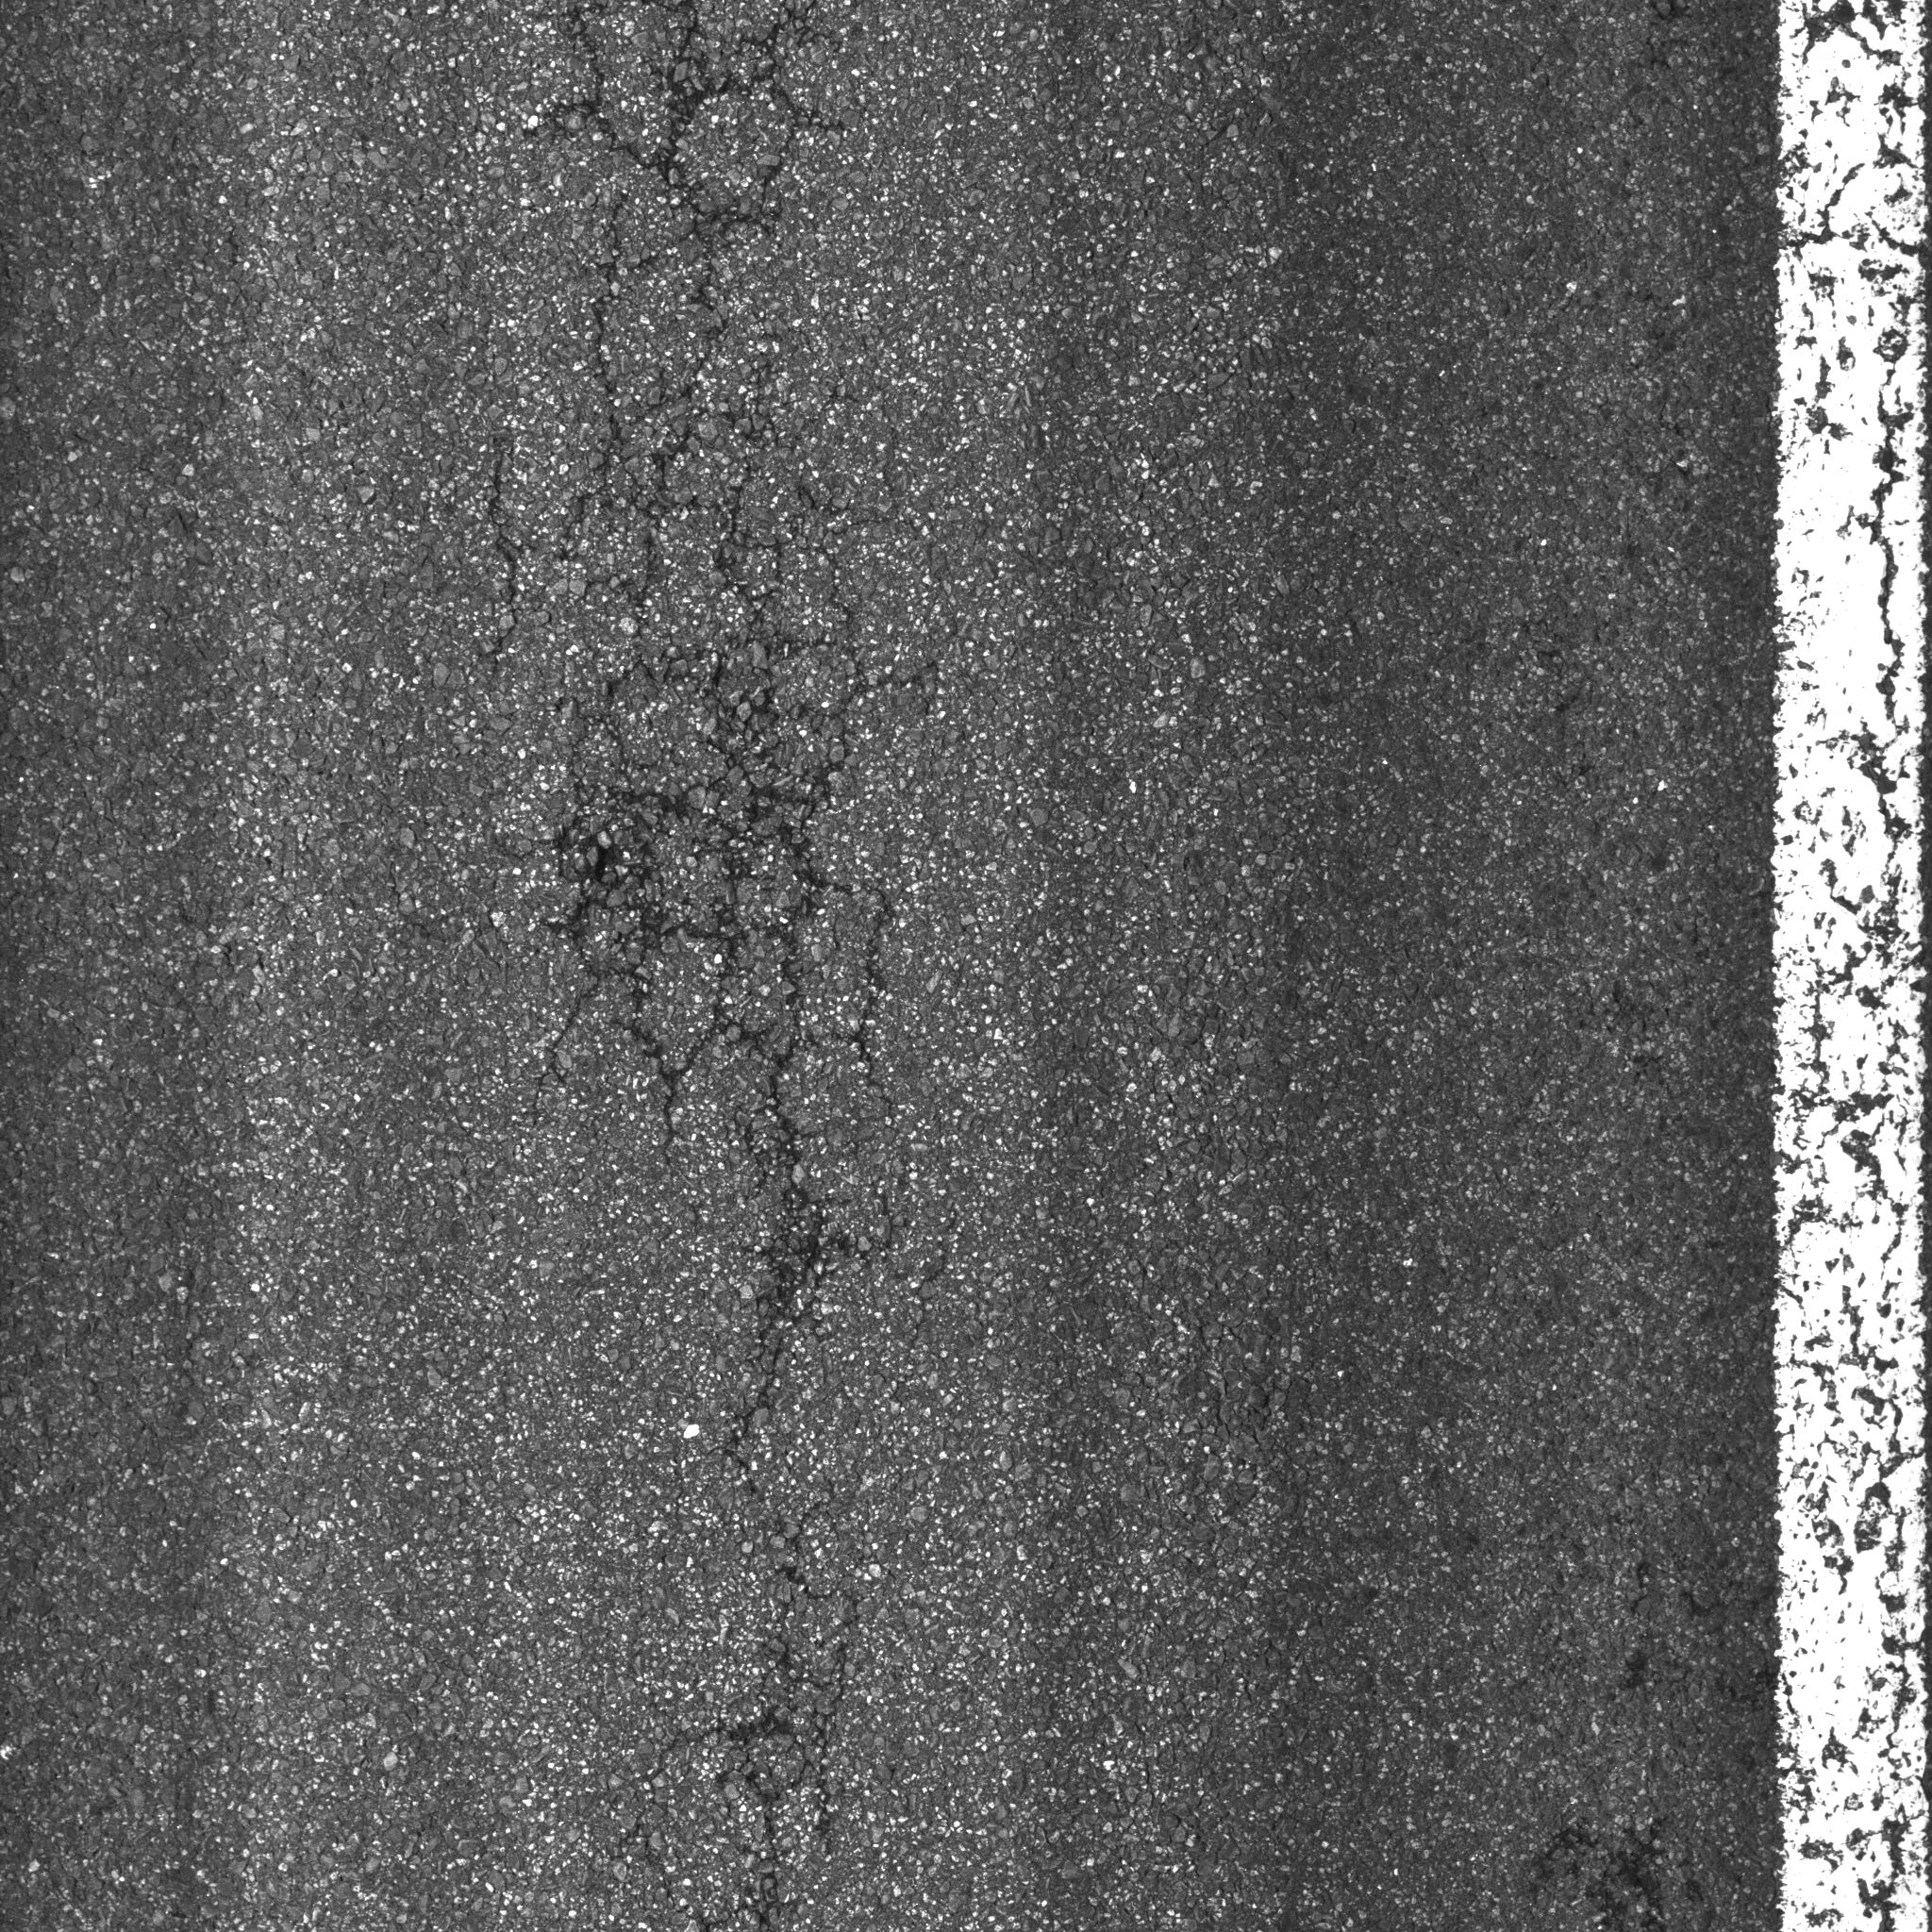alligator: (437, 2, 993, 1911)
